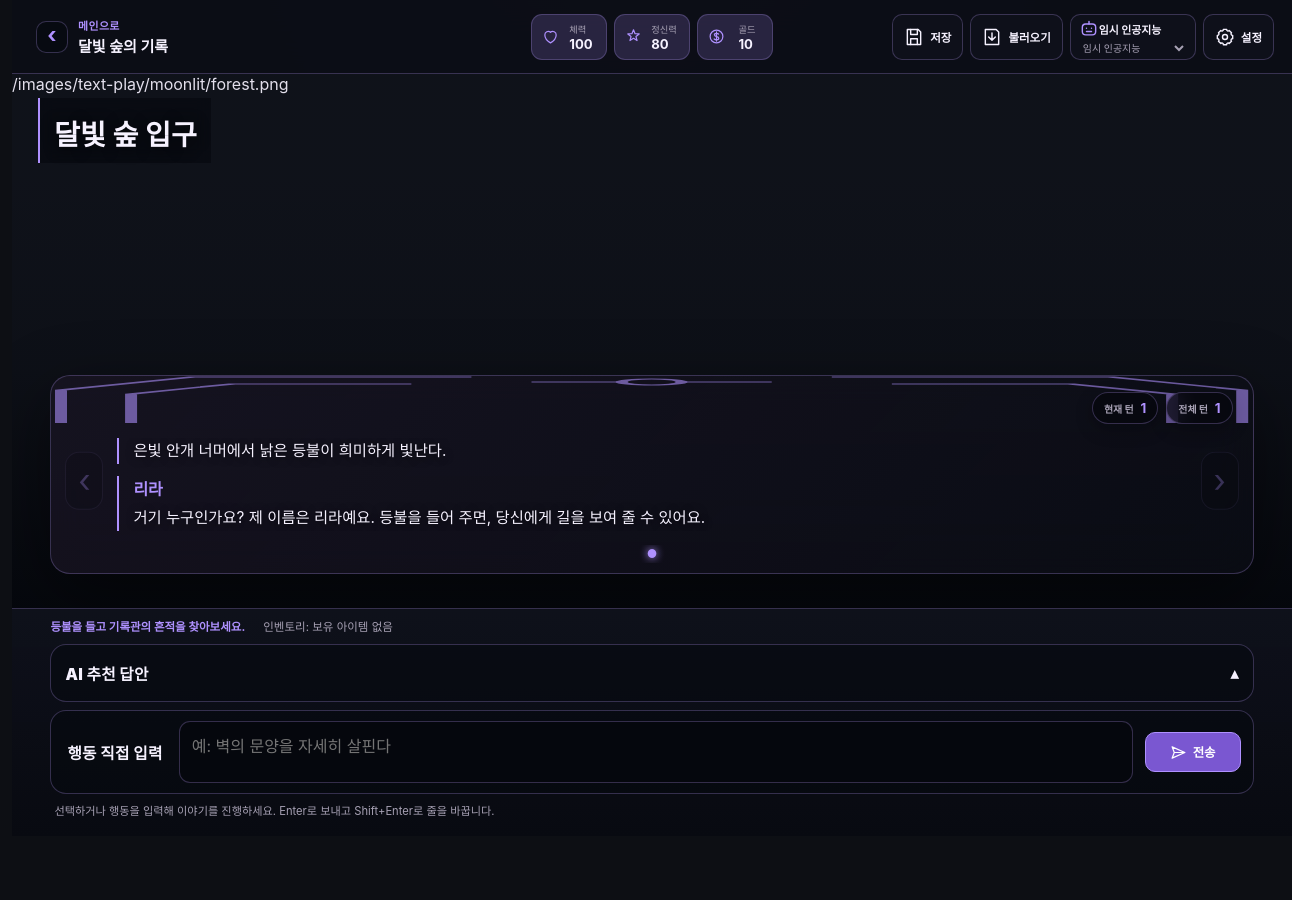
Test: 대표 작품 진행 안내 › 현재 목표와 얻은 아이템을 상시 표시한다
The image size is (1292, 900).
Expected: the element named "현재 진행" shows "등불을 들고 기록관의 흔적", [50,620,245,634]
Click the button "AI 추천 답안 ▴" at (107, 674), box [63,653,1241,693]
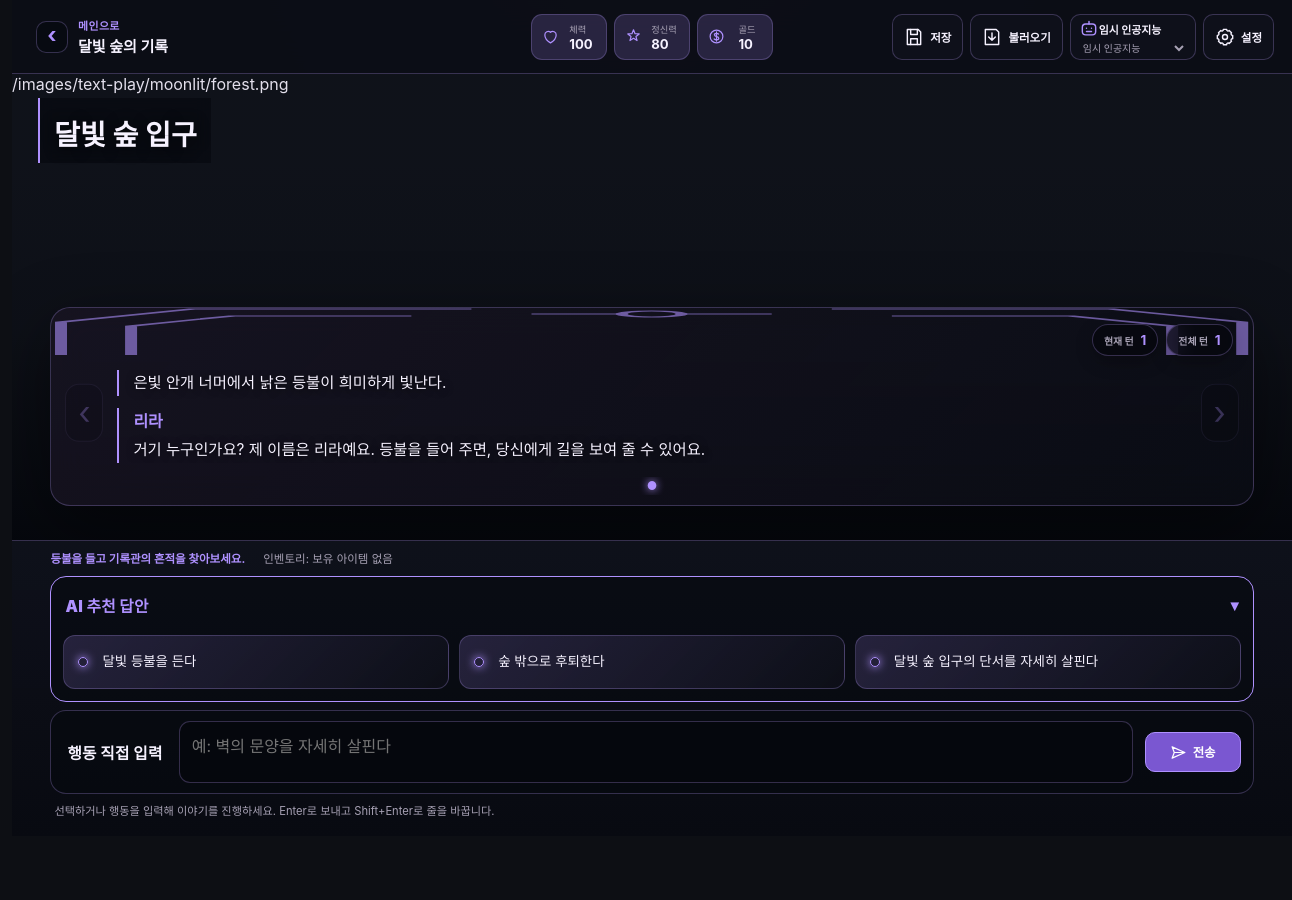
Click the button "달빛 등불을 든다" at (149, 661), box [63,635,449,689]
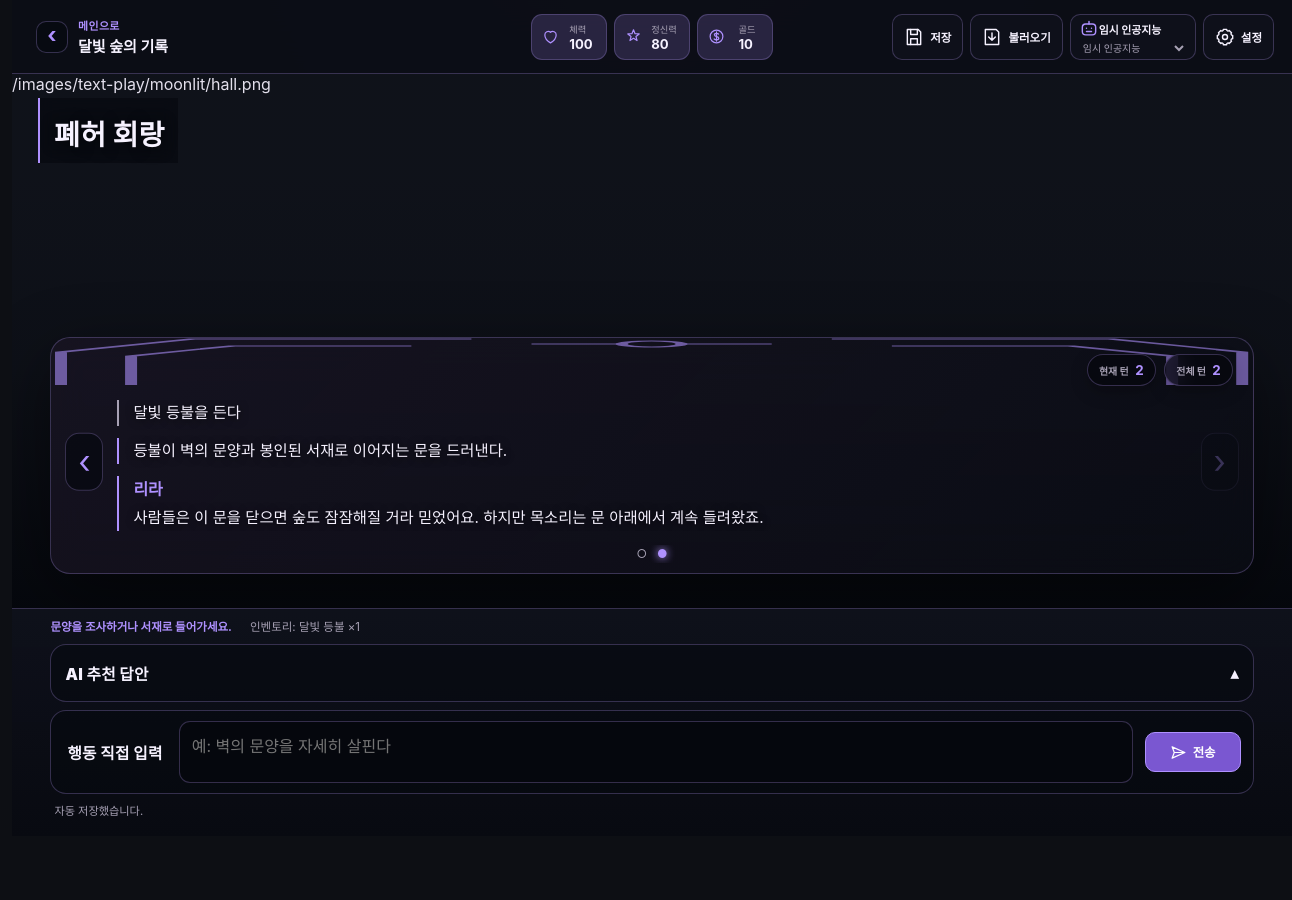
Expected: the element named "현재 진행" shows "달빛 등불", [299,620,360,634]
